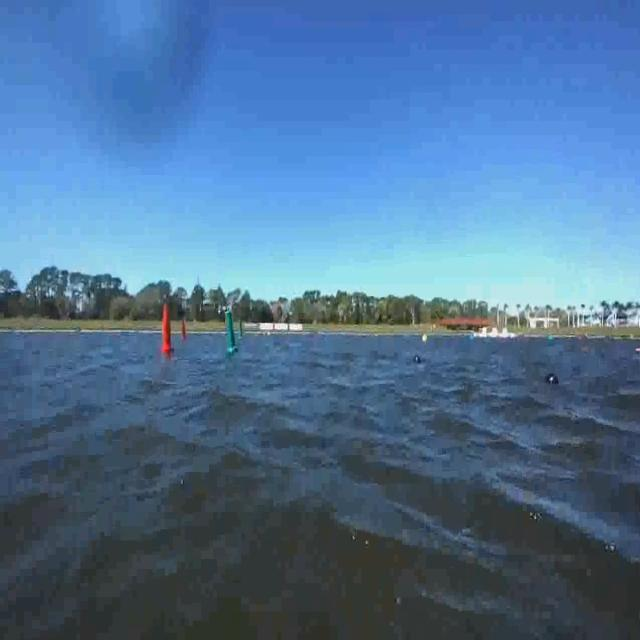black-buoy: (540, 367, 563, 387), (412, 354, 421, 364)
green-column-buoy: (224, 312, 238, 355)
red-column-buoy: (160, 303, 174, 352), (183, 322, 190, 342)
yellow-buoy: (422, 334, 429, 346)
